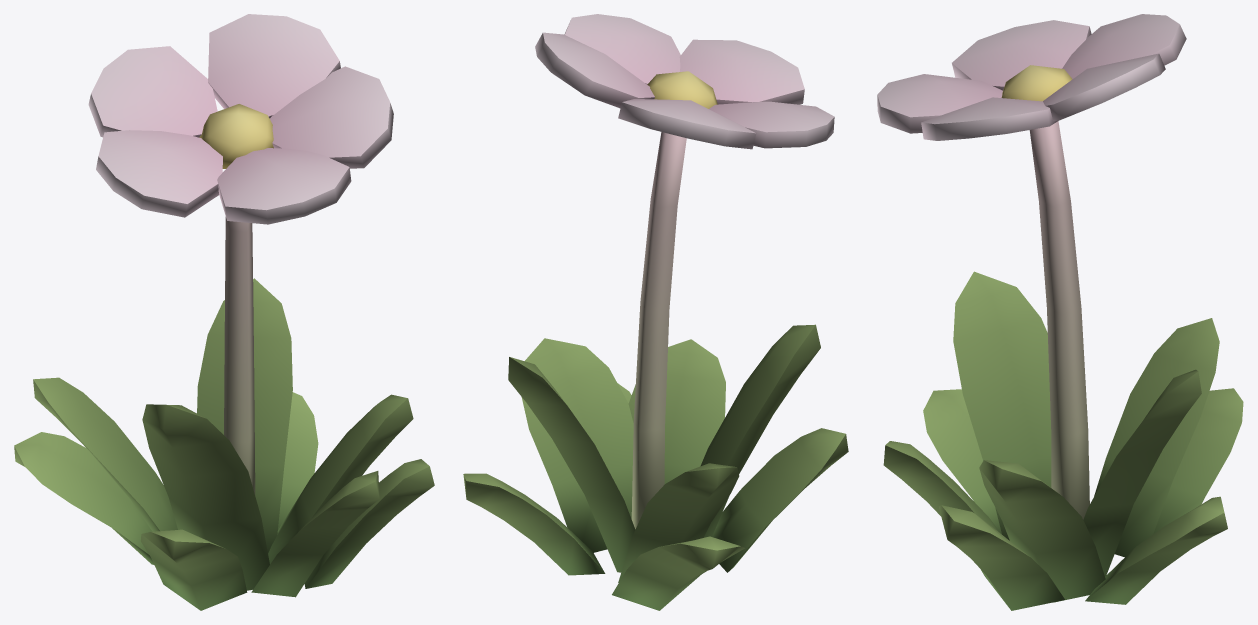
Rendered from flowers_big_c.glb.
3 renders of one model, left to right at view 1: azimuth 30°, elevation 25°; view 2: azimuth 150°, elevation 25°; view 3: azimuth 270°, elevation 25°, orthographic. The views are drawn at different scales.
Visible parts, largest first — view 1: Flowers_Big_C.001; view 2: Flowers_Big_C.001; view 3: Flowers_Big_C.001.
Boxes of the visible parts, <box> form: Flowers_Big_C.001: <box>14,14,434,610</box>; Flowers_Big_C.001: <box>463,14,848,610</box>; Flowers_Big_C.001: <box>877,14,1243,610</box>.
Bounding box in the file's own units: 0.3238 × 0.5481 × 0.3332.
